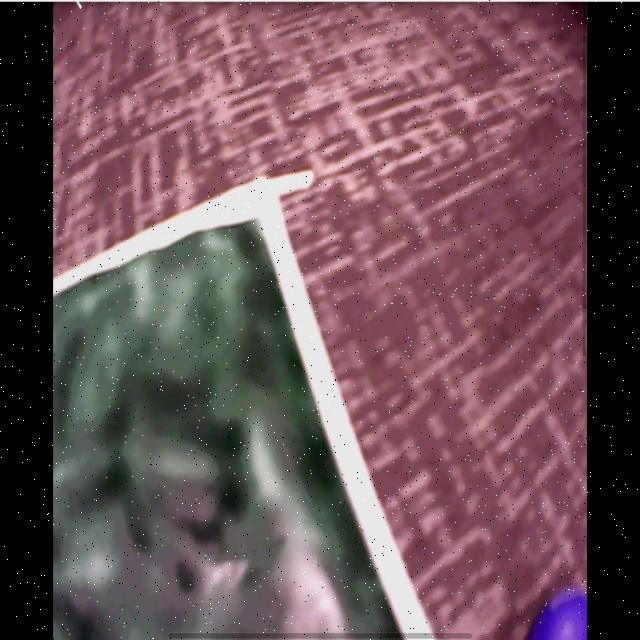ball: (530, 592, 587, 640)
